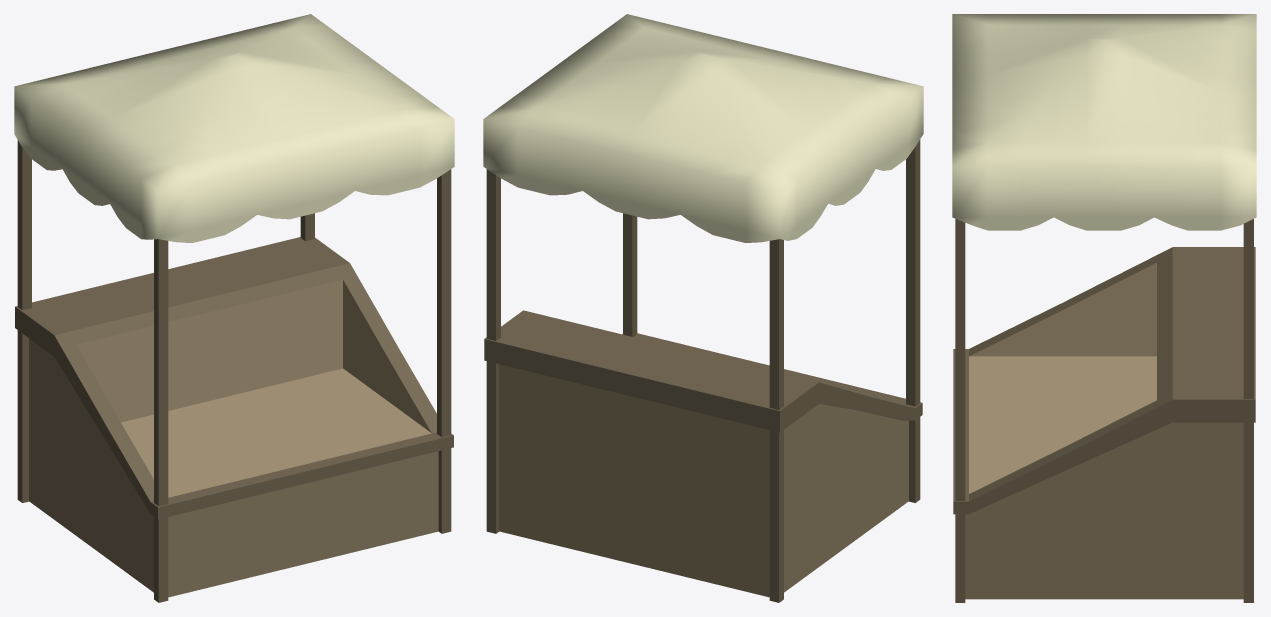
File: DairyStall.fbx
3 views of the same model, side by side, from view 1: azimuth 30°, elevation 25°; view 2: azimuth 150°, elevation 25°; view 3: azimuth 270°, elevation 25° (orthographic). The views are drawn at different scales.
Visible parts, largest first — view 1: DairyStall, DairyStall_Top; view 2: DairyStall, DairyStall_Top; view 3: DairyStall, DairyStall_Top.
Part boxes in pixels (x1=…): DairyStall: x1=15, y1=140, x2=453, y2=602; DairyStall_Top: x1=14, y1=14, x2=454, y2=242; DairyStall: x1=484, y1=139, x2=922, y2=602; DairyStall_Top: x1=483, y1=14, x2=923, y2=242; DairyStall: x1=953, y1=219, x2=1255, y2=602; DairyStall_Top: x1=952, y1=14, x2=1256, y2=230.
Bounding box in the file's own units: 26.69 × 39.56 × 22.38.
